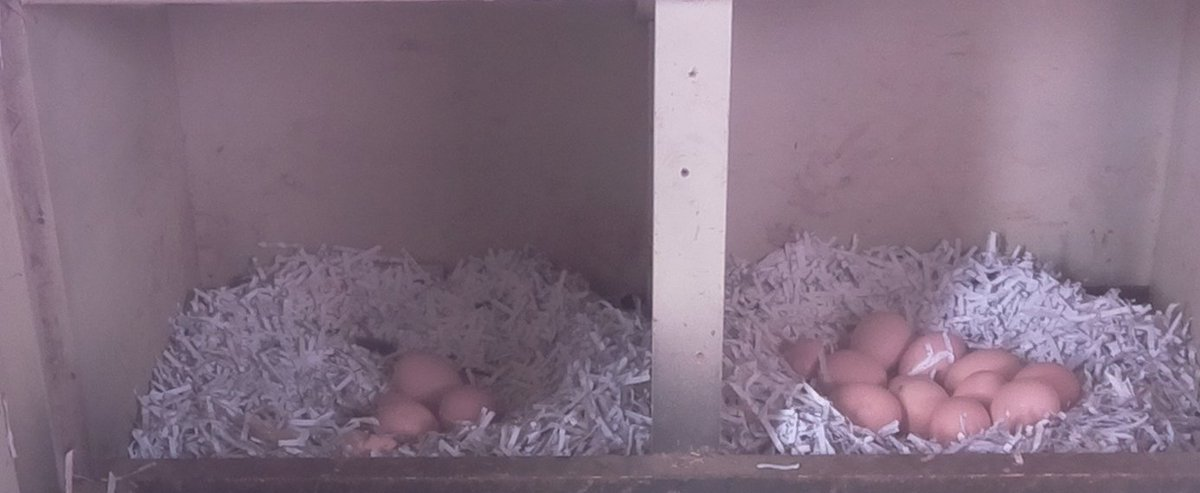egg: (824, 382, 906, 444), (843, 309, 921, 371), (885, 372, 952, 441), (986, 374, 1065, 428), (1010, 360, 1090, 412), (386, 349, 468, 399), (896, 328, 972, 381), (928, 393, 992, 450), (812, 347, 892, 392), (938, 345, 1028, 382), (370, 396, 442, 441), (432, 384, 501, 427), (945, 370, 1016, 399), (784, 332, 825, 382)
